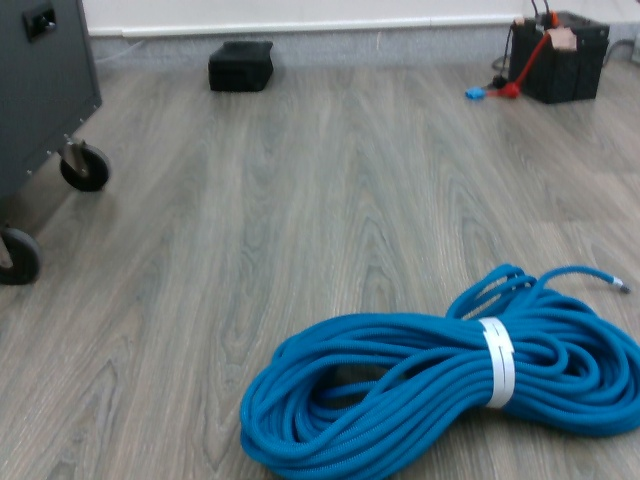rope: (237, 265, 640, 480)
